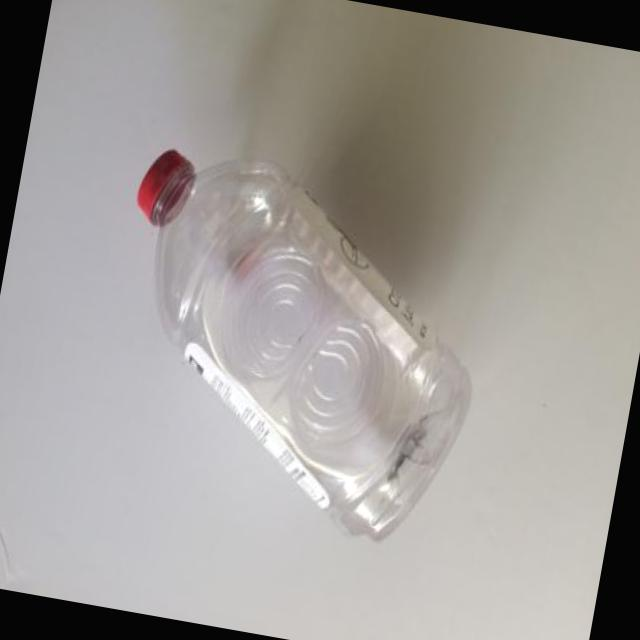Recycle: (83, 142, 508, 558)
